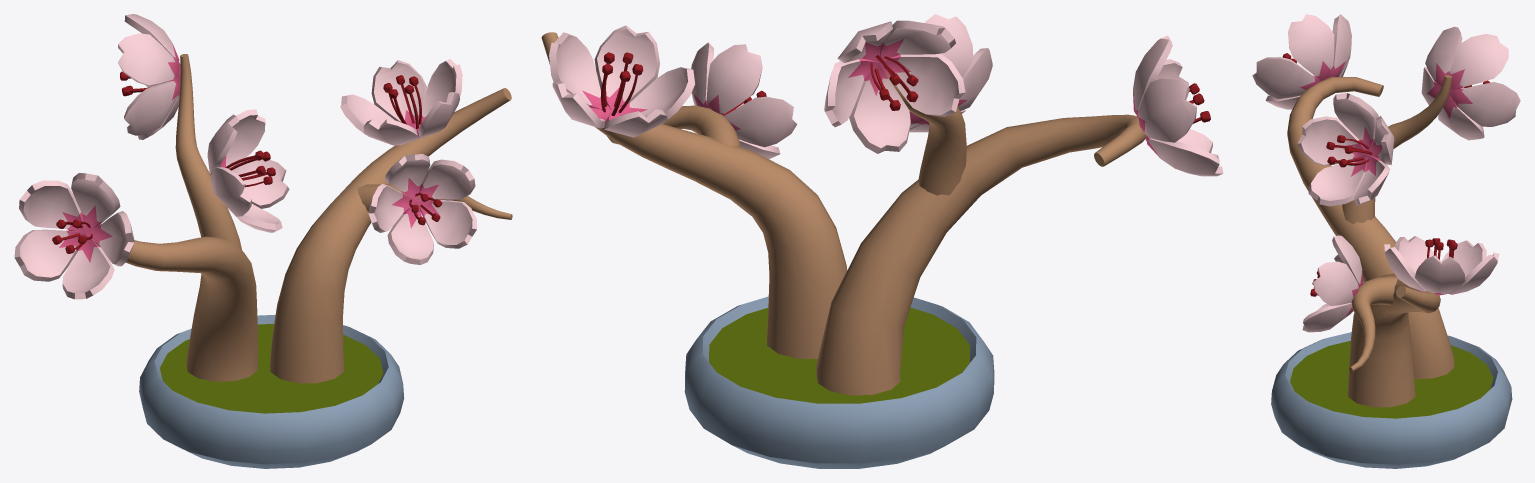
File: Decoration_SakuraTree.glb
The picture shows the model from 3 angles, left to right: view 1: azimuth 30°, elevation 25°; view 2: azimuth 150°, elevation 25°; view 3: azimuth 270°, elevation 25°; orthographic projection. The views are drawn at different scales.
Parts seen in each view (by area): view 1: Decoration_SakuraTree; view 2: Decoration_SakuraTree; view 3: Decoration_SakuraTree.
Part boxes in pixels (x1,y1,x2,y2): Decoration_SakuraTree: [14, 14, 512, 468]; Decoration_SakuraTree: [541, 14, 1223, 468]; Decoration_SakuraTree: [1252, 14, 1520, 468].
Size of the model in its own units: 4.72 by 3.39 by 2.25.
1 material, 1 textured.
